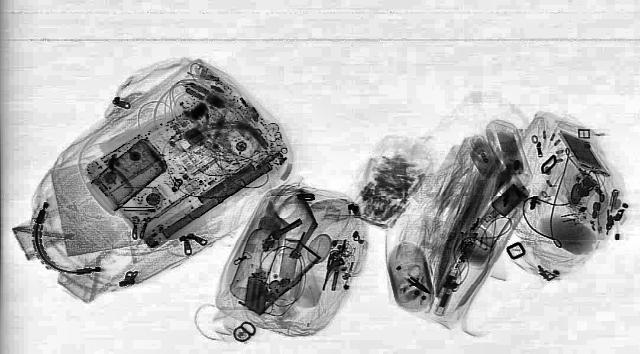Knife: (399, 275, 438, 297)
